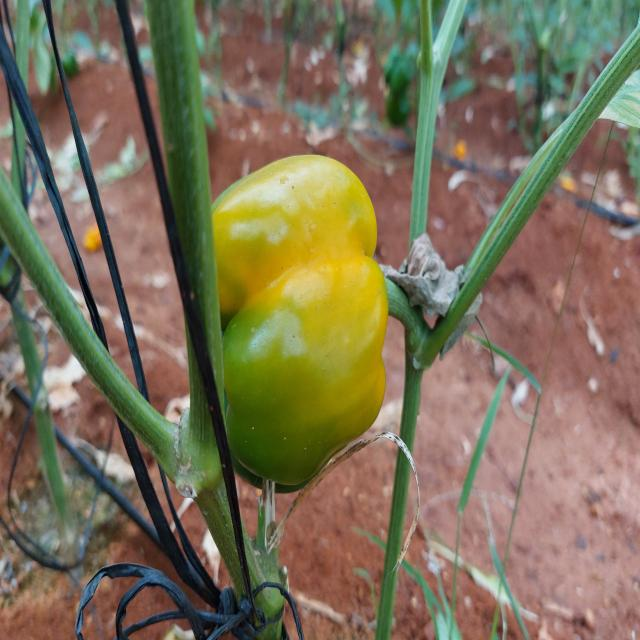GreenishYellow--Can-be-Harvested: (194, 155, 406, 494)
